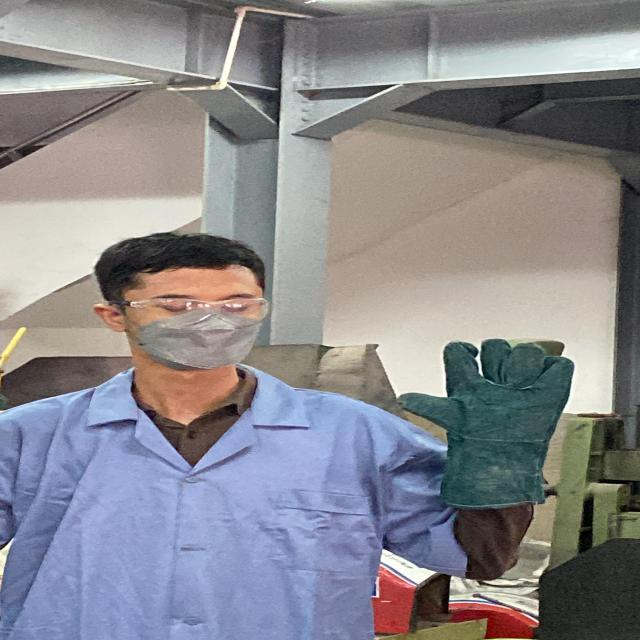face_mask: (123, 293, 271, 365)
glasses: (96, 294, 283, 330)
hand_glove: (391, 331, 590, 453)
head_nohelmet: (88, 226, 264, 293)
person: (0, 218, 629, 640)
